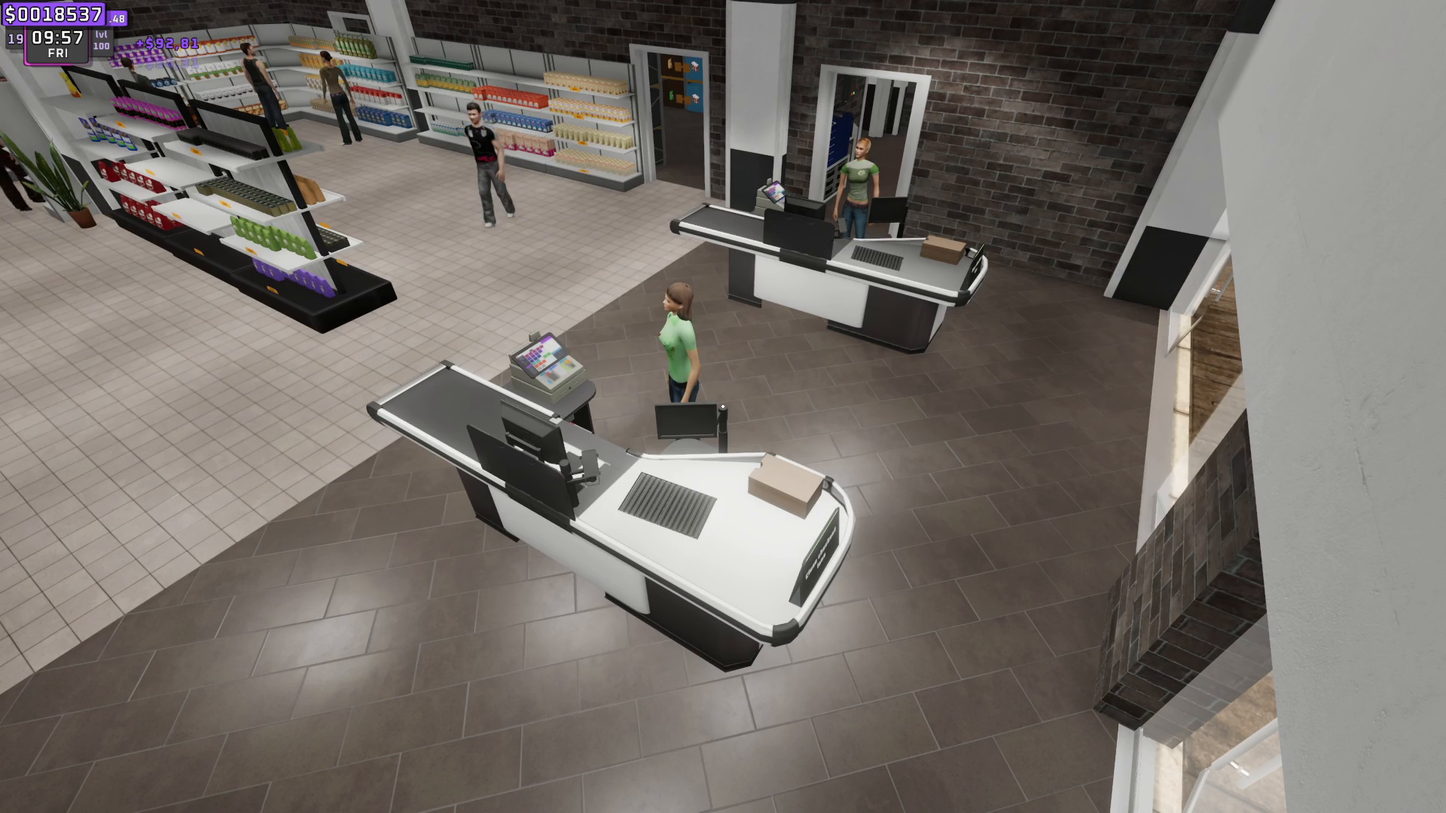Employee: (653, 283, 703, 399), (838, 141, 880, 230)
